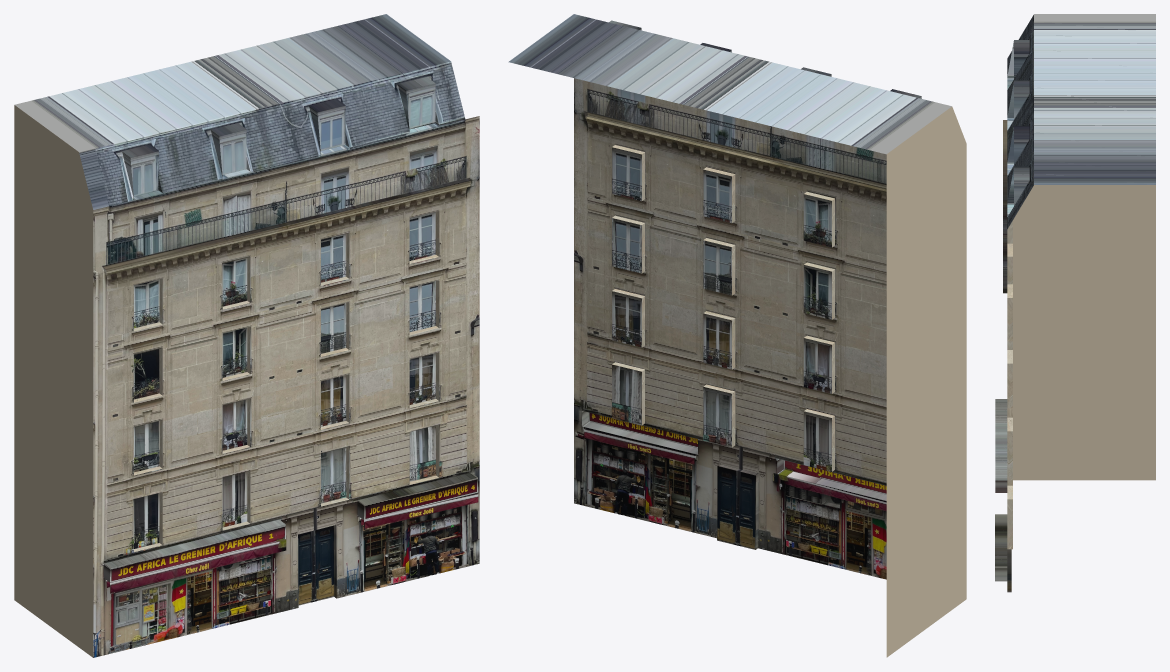
Rendered from TEST_GLB.glb.
3 renders of one model, left to right at view 1: azimuth 30°, elevation 25°; view 2: azimuth 150°, elevation 25°; view 3: azimuth 270°, elevation 25°, orthographic. The views are drawn at different scales.
Parts seen in each view (by area): view 1: Building002; view 2: Building002; view 3: Building002.
Part boxes in pixels (x1,y1,x2,y2): Building002: (14, 14, 479, 657); Building002: (508, 14, 966, 657); Building002: (995, 14, 1155, 592).
Size of the model in its own units: 20.71 by 25.37 by 7.92.
3 materials, 2 textured.
